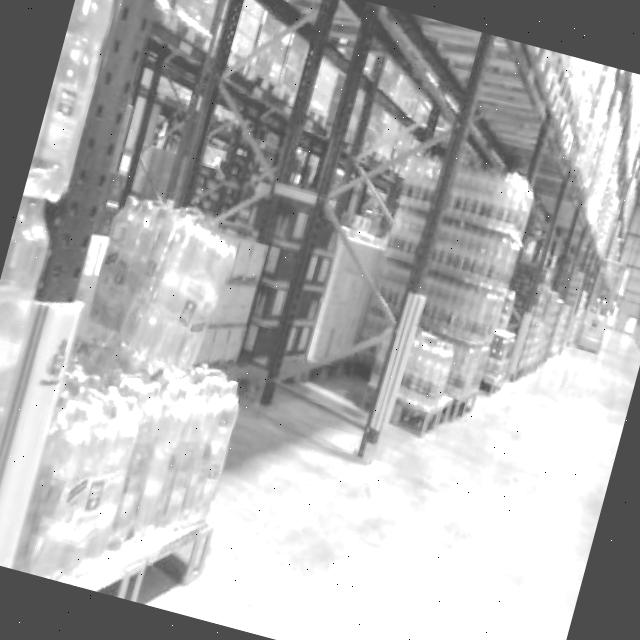ground: (114, 216, 640, 640)
pallet: (141, 0, 640, 507), (167, 164, 439, 460), (70, 190, 274, 383), (19, 468, 219, 615), (226, 179, 349, 377), (180, 224, 272, 375)
